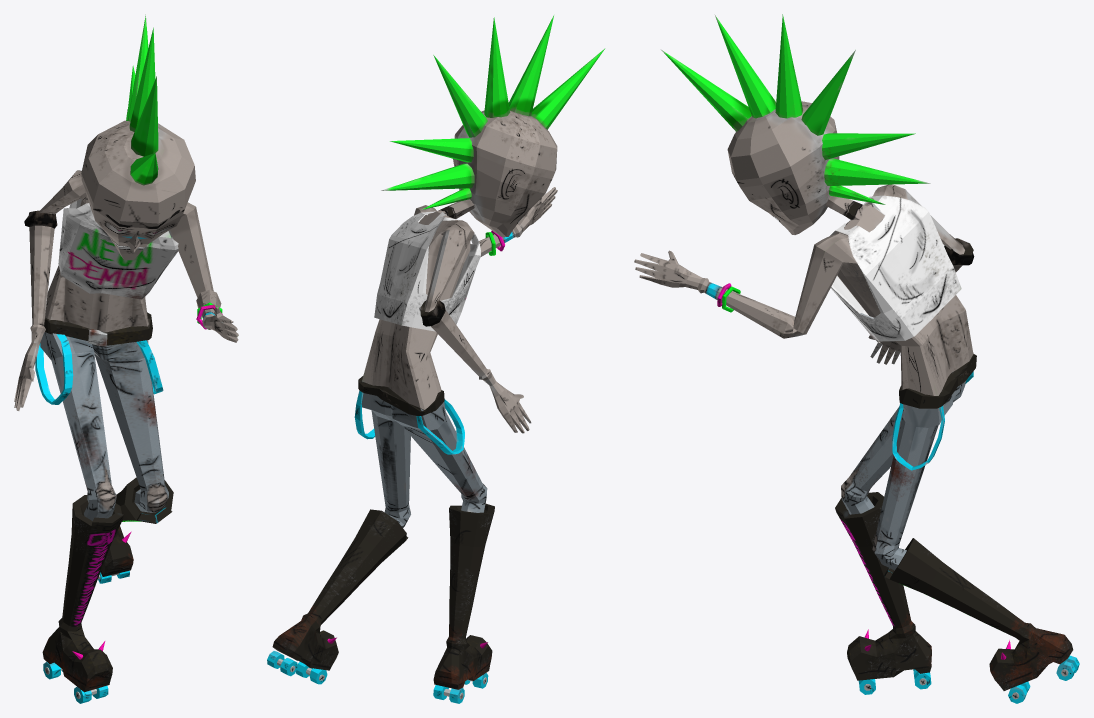
Rendered from punkAnimation_000025.obj.
3 views of the same model, side by side, from view 1: azimuth 30°, elevation 25°; view 2: azimuth 150°, elevation 25°; view 3: azimuth 270°, elevation 25° (orthographic). The views are drawn at different scales.
Parts seen in each view (by area): view 1: Cube.004_Cube.003; view 2: Cube.004_Cube.003; view 3: Cube.004_Cube.003.
Part boxes in pixels (bbox=[...]): Cube.004_Cube.003: bbox=[14, 14, 238, 703]; Cube.004_Cube.003: bbox=[267, 15, 605, 703]; Cube.004_Cube.003: bbox=[634, 14, 1079, 703].
Bounding box in the file's own units: 1.93 × 6.83 × 4.03.
